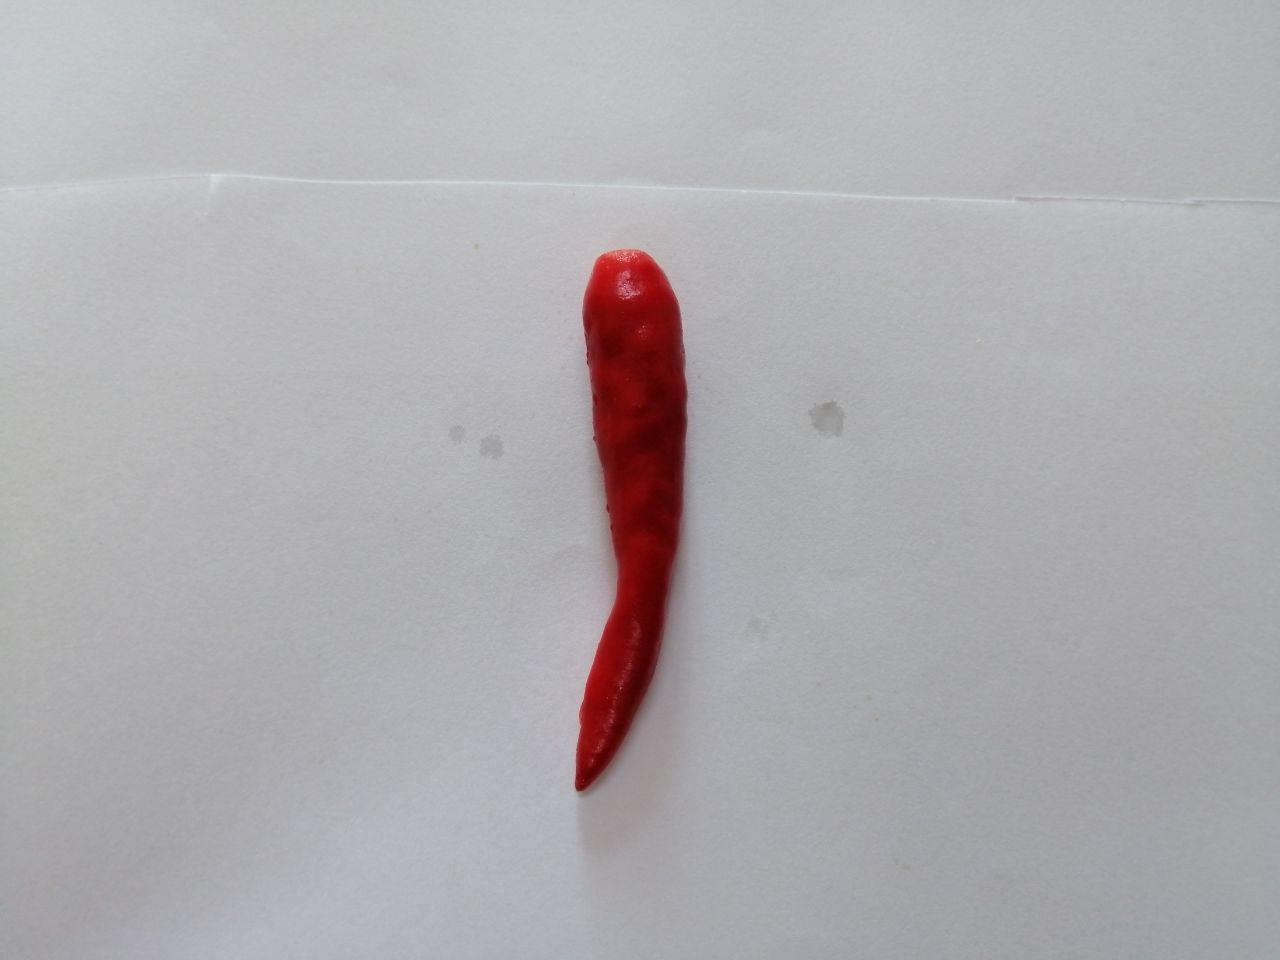lada merah: (563, 236, 705, 818)
